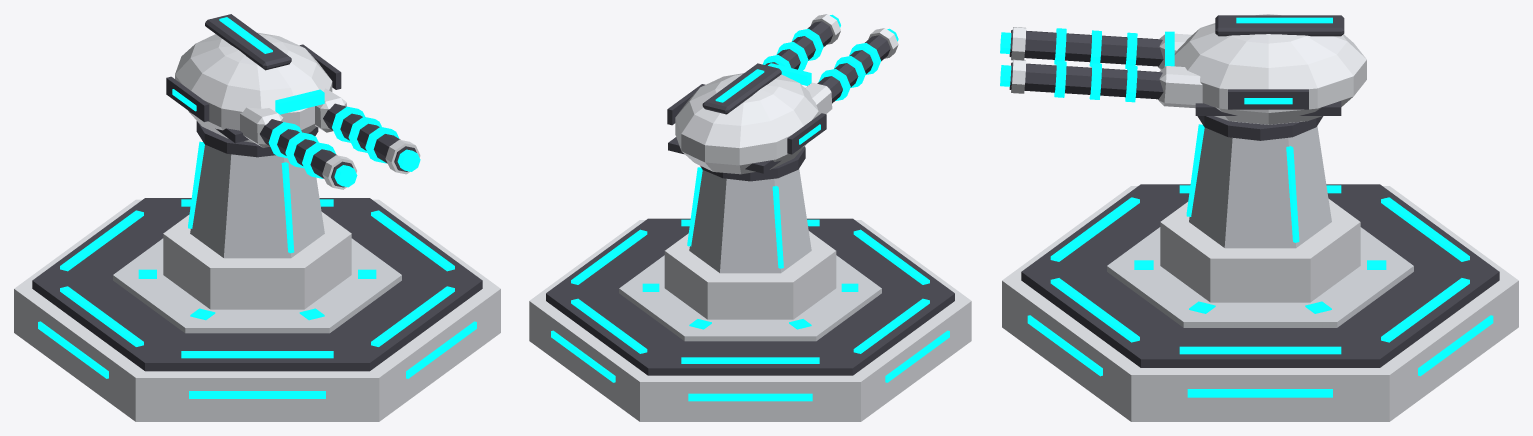
Rendered from laser_turret.glb.
3 renders of one model, left to right at view 1: azimuth 30°, elevation 25°; view 2: azimuth 150°, elevation 25°; view 3: azimuth 270°, elevation 25°, orthographic. The views are drawn at different scales.
Parts seen in each view (by area): view 1: Cylinder.298, Cylinder.297, Cone.034, Cylinder.300, Cylinder.299, Sphere.002, Cube.283, Cylinder.302, Cylinder.308, Cube.273, Cylinder.301, Cube.274 (+14 smaller); view 2: Cylinder.298, Cylinder.297, Cone.034, Sphere.002, Cylinder.300, Cylinder.299, Cube.283, Cylinder.302, Cube.268, Cube.267, Cylinder.308, Cylinder.301 (+12 smaller); view 3: Cylinder.298, Cylinder.297, Cone.034, Sphere.002, Cylinder.300, Cylinder.299, Cylinder.308, Cylinder.302, Cube.283, Cylinder.301, Cube.291, Cube.261 (+12 smaller).
Boxes of the visible parts, x1=… form: Cylinder.298: x1=32, y1=198, x2=482, y2=371; Cylinder.297: x1=14, y1=199, x2=500, y2=421; Cone.034: x1=190, y1=144, x2=324, y2=258; Cylinder.300: x1=163, y1=212, x2=351, y2=309; Cylinder.299: x1=113, y1=238, x2=401, y2=333; Sphere.002: x1=175, y1=32, x2=332, y2=142; Cube.283: x1=205, y1=14, x2=291, y2=70; Cylinder.302: x1=260, y1=119, x2=353, y2=187; Cylinder.308: x1=323, y1=103, x2=416, y2=171; Cube.273: x1=181, y1=351, x2=333, y2=358; Cylinder.301: x1=196, y1=121, x2=318, y2=157; Cube.274: x1=189, y1=391, x2=325, y2=398; Cylinder.298: x1=546, y1=218, x2=954, y2=375; Cylinder.297: x1=529, y1=220, x2=971, y2=421; Cone.034: x1=689, y1=169, x2=811, y2=273; Sphere.002: x1=675, y1=73, x2=818, y2=174; Cylinder.300: x1=664, y1=231, x2=836, y2=319; Cylinder.299: x1=619, y1=255, x2=881, y2=341; Cube.283: x1=702, y1=63, x2=781, y2=114; Cylinder.302: x1=817, y1=35, x2=890, y2=103; Cube.268: x1=688, y1=393, x2=812, y2=401; Cube.267: x1=681, y1=357, x2=819, y2=363; Cylinder.308: x1=765, y1=21, x2=833, y2=69; Cylinder.301: x1=700, y1=147, x2=805, y2=181; Cylinder.298: x1=1021, y1=184, x2=1499, y2=367; Cylinder.297: x1=1002, y1=186, x2=1518, y2=421; Cone.034: x1=1189, y1=126, x2=1331, y2=248; Sphere.002: x1=1174, y1=14, x2=1366, y2=124; Cylinder.300: x1=1160, y1=198, x2=1360, y2=302; Cylinder.299: x1=1107, y1=227, x2=1413, y2=327; Cylinder.308: x1=1009, y1=62, x2=1163, y2=99; Cylinder.302: x1=1009, y1=30, x2=1163, y2=66; Cube.283: x1=1215, y1=15, x2=1344, y2=36; Cylinder.301: x1=1197, y1=116, x2=1323, y2=140; Cube.291: x1=1158, y1=66, x2=1202, y2=108; Cube.261: x1=1179, y1=346, x2=1341, y2=354.
Size of the model in its own units: 2.81 by 2.1 by 3.21.
